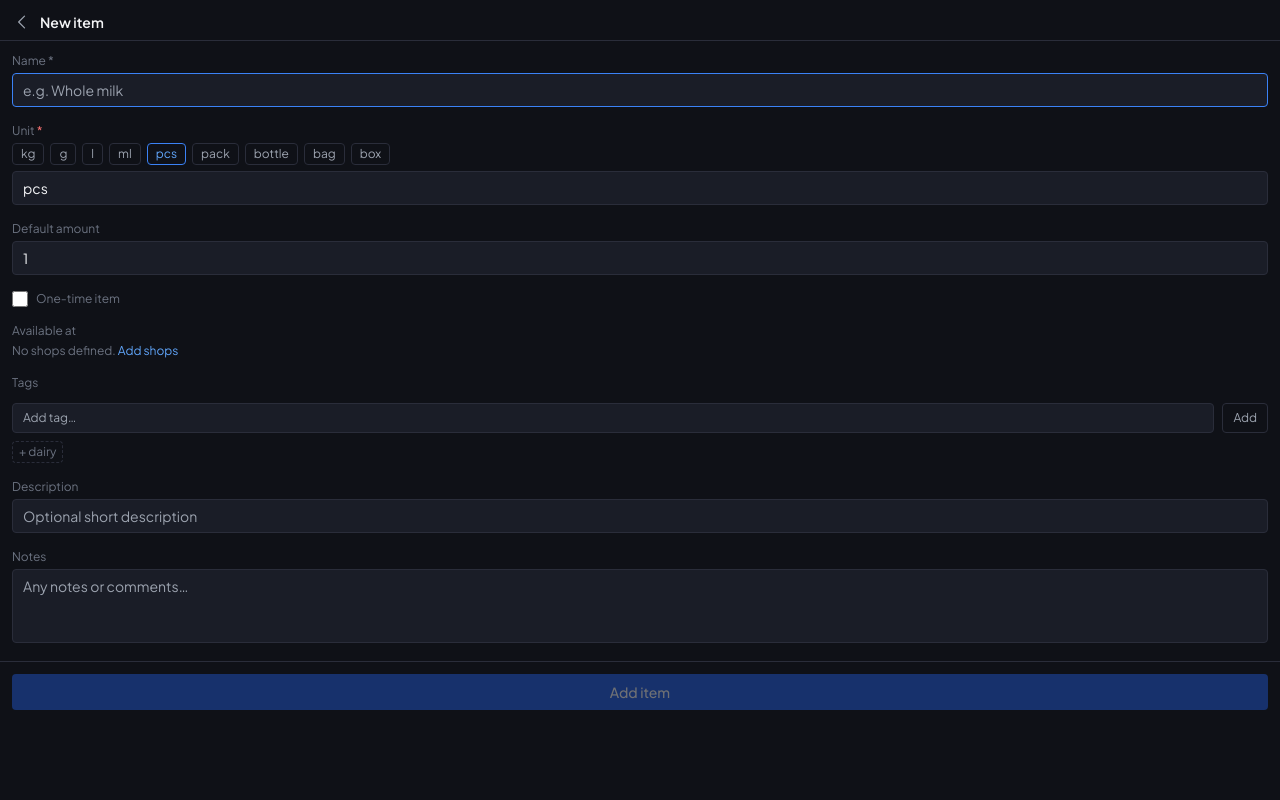
Test: ItemDetailScreen — tag filtering › pressing Enter on a typed value that matches an existing tag selects it
The width and height of the screenshot is (1280, 800).
Type "dairy" into the field with placeholder "Add tag…" at (613, 418), box x1=12 y1=403 x2=1214 y2=433
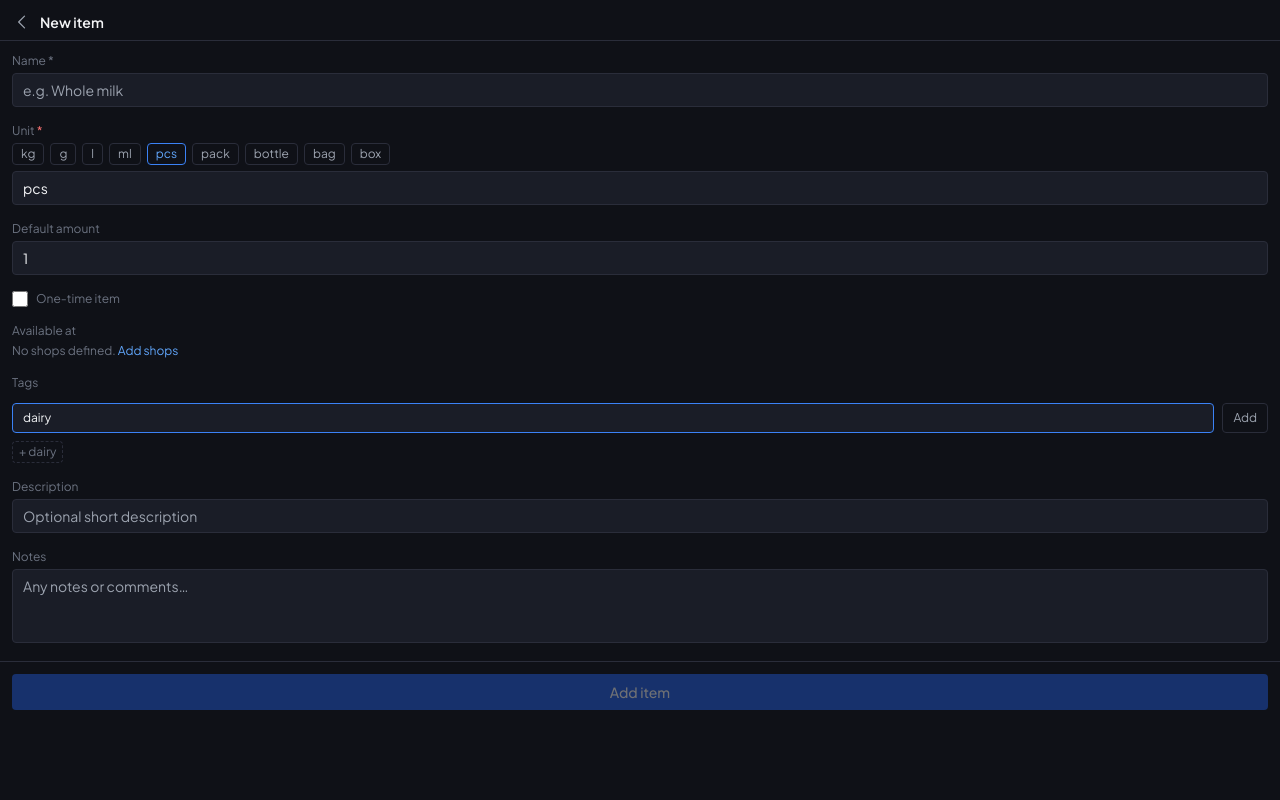
Press Enter
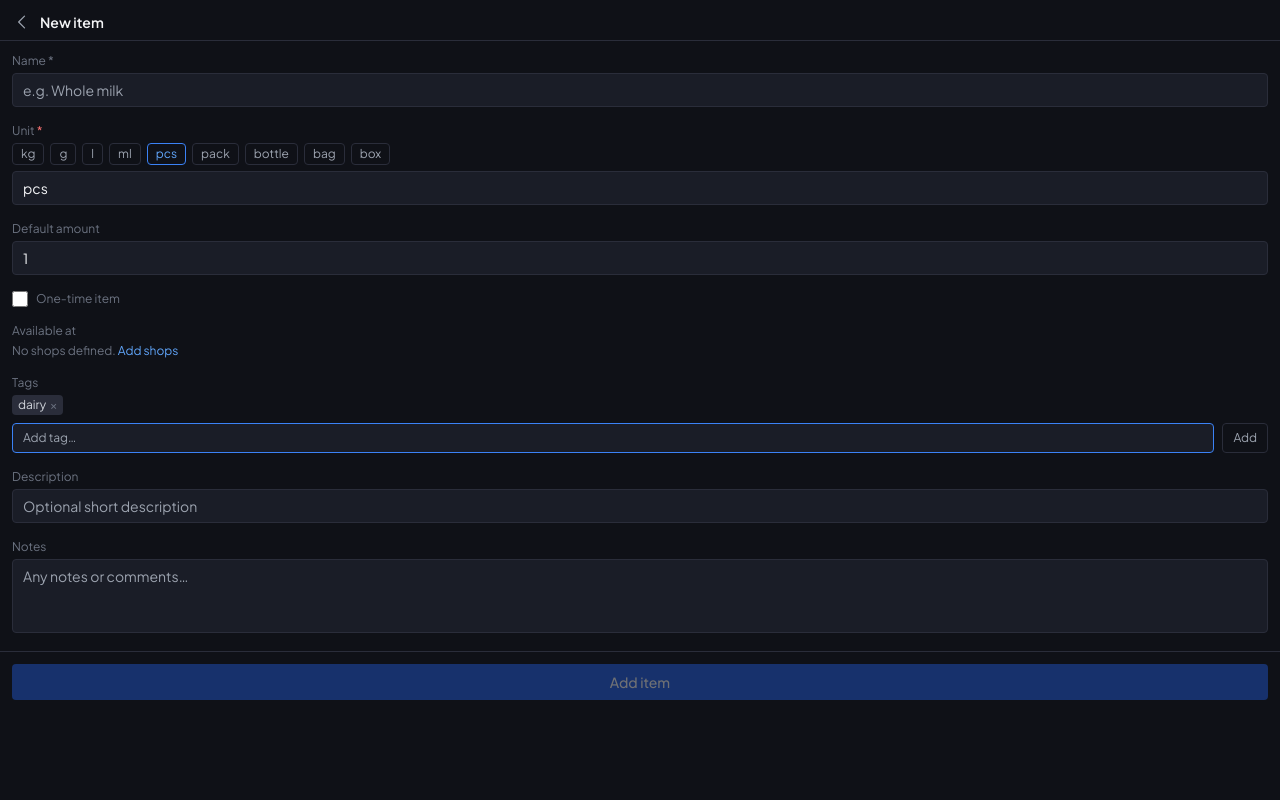
Expected: the button "+ dairy" is gone
Expected: the text "dairy" is shown, x1=18 y1=397 x2=46 y2=412
Expected: the field with placeholder "Add tag…" is empty, x1=12 y1=423 x2=1214 y2=453
